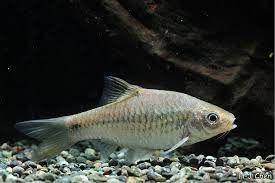Black Spotted Barb: (16, 72, 237, 164)
